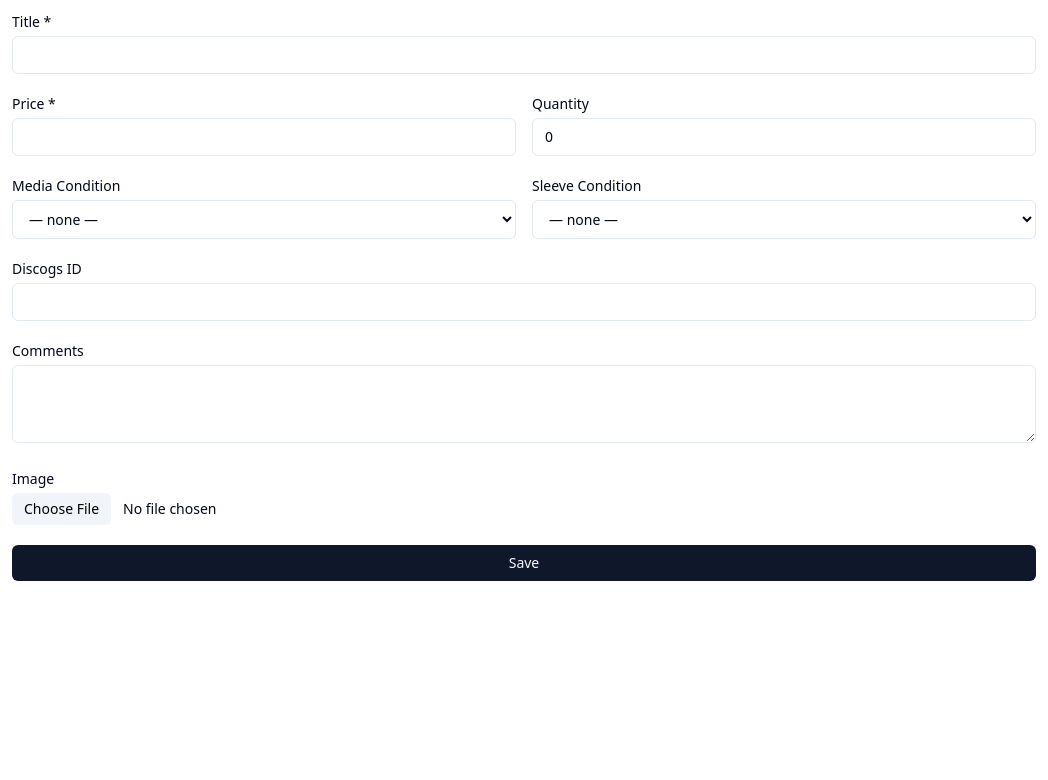
Scenario: ItemForm — validation › shows "Price must be positive" when price is zero
This screenshot has width=1048, height=780.
In the field labelled "Title *": (524, 55) [12,36,1036,74], type "Test"
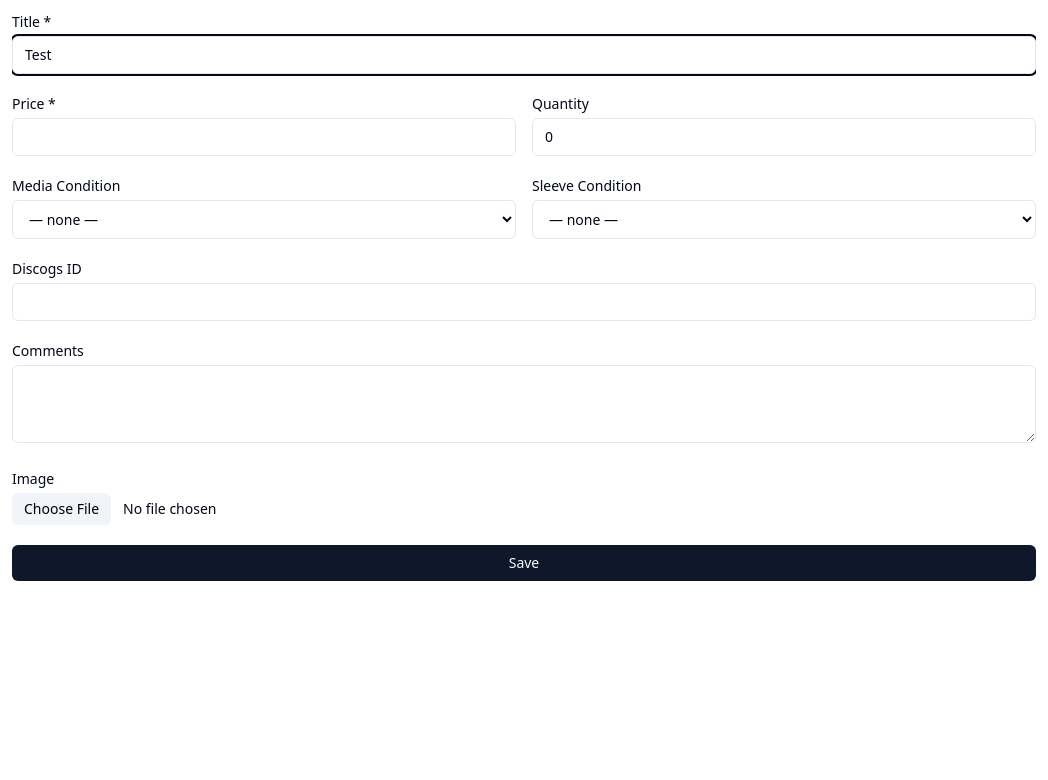
In the number field labelled "Price *": (264, 137) [12,118,516,156], type "0"
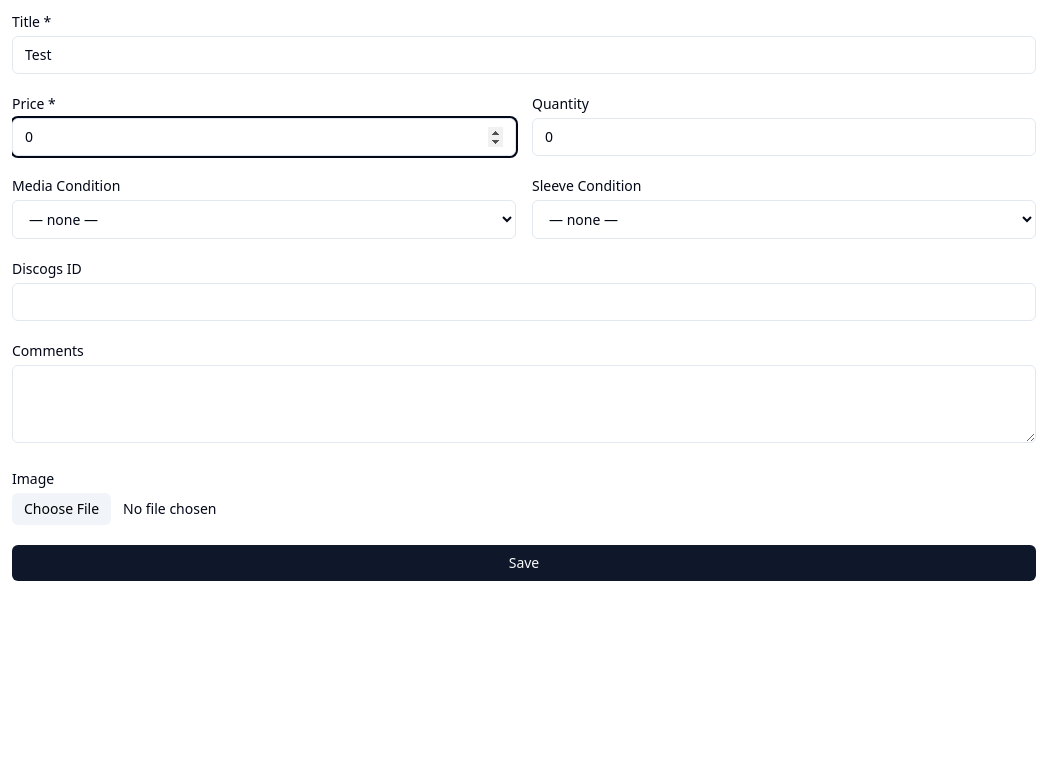
Click the button "Save": (524, 563) [12,545,1036,581]
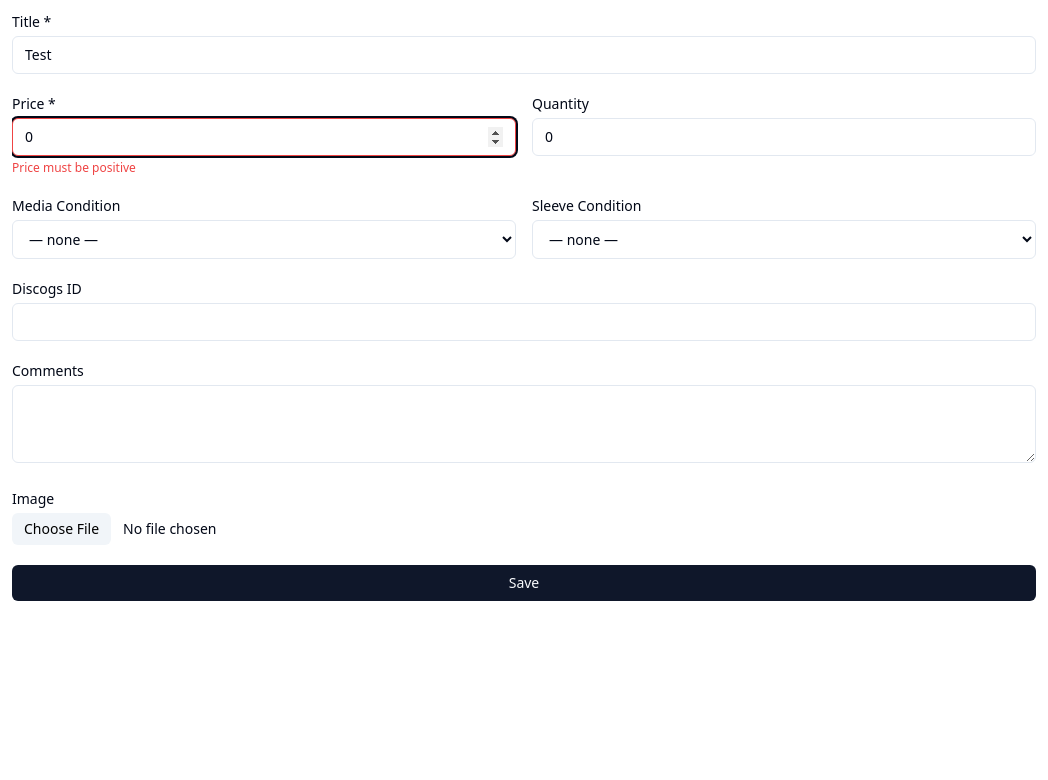
Now the text "Price must be positive" is shown, box [12,159,136,176]
